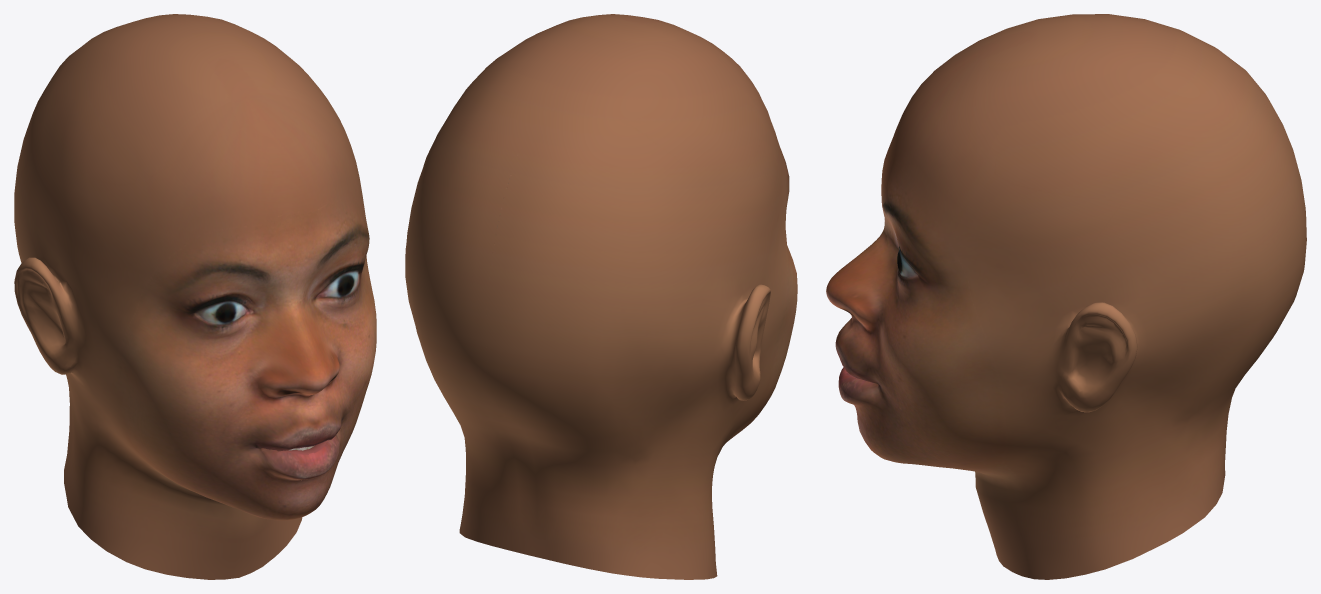
The model's file is v332_obj_PhonemeR.obj.
3 views of the same model, side by side, from view 1: azimuth 30°, elevation 25°; view 2: azimuth 150°, elevation 25°; view 3: azimuth 270°, elevation 25° (orthographic). The views are drawn at different scales.
Parts seen in each view (by area): view 1: HeadHires; view 2: HeadHires; view 3: HeadHires.
Part boxes in pixels (bbox=[...]): HeadHires: bbox=[14, 14, 376, 579]; HeadHires: bbox=[405, 14, 797, 579]; HeadHires: bbox=[826, 14, 1306, 579].
Bounding box in the file's own units: 187 × 282 × 233.
